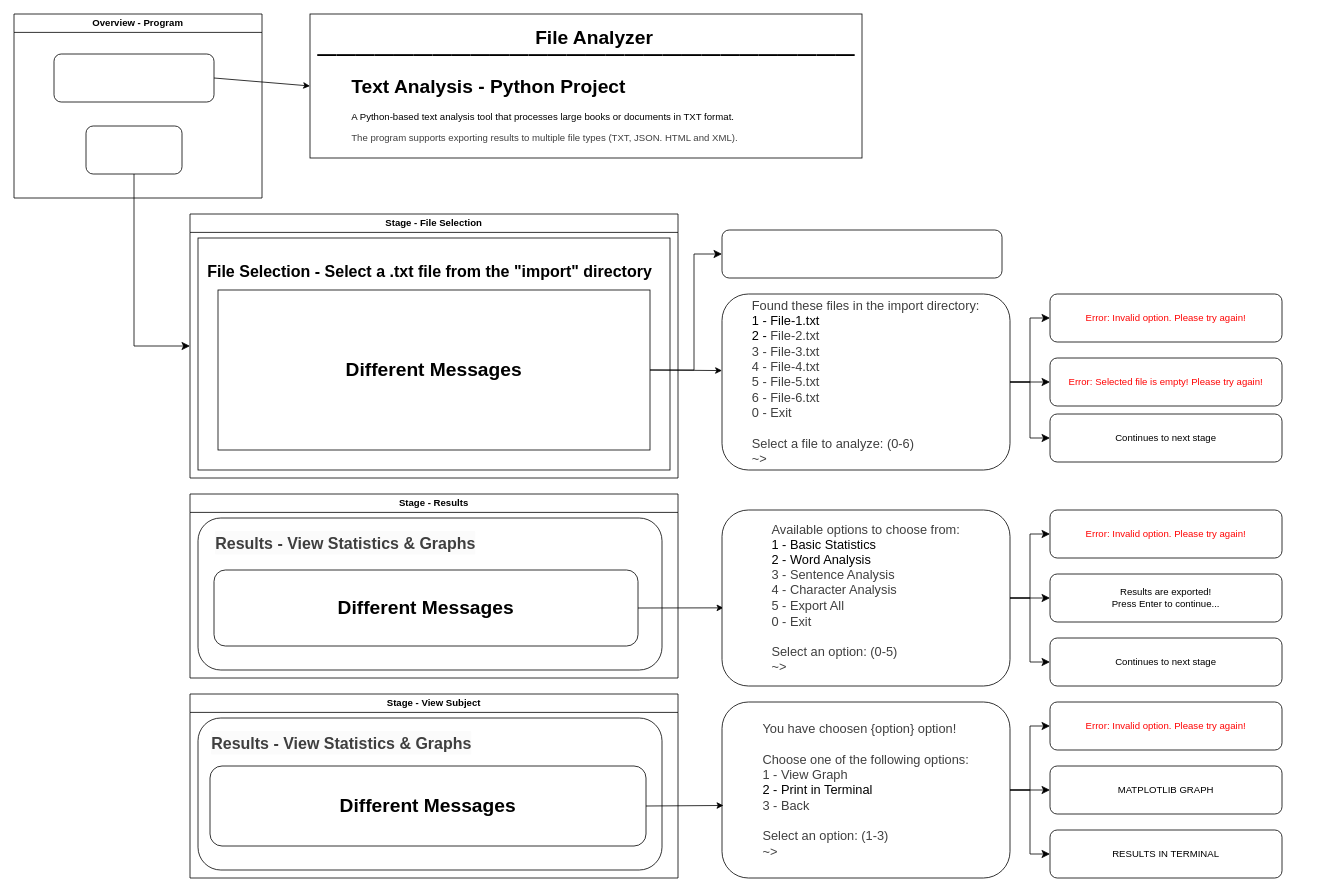
Some shapes in this 1332 by 892 pixel diagram are drawn without their labels. Here are the shapes that lost their labels. From the top down, the centre of each, then its label:
At point 133,77: "Branding".
At point 133,149: "Stages".
At point 861,253: "Error: There are no .TXT files in the import directory!".
